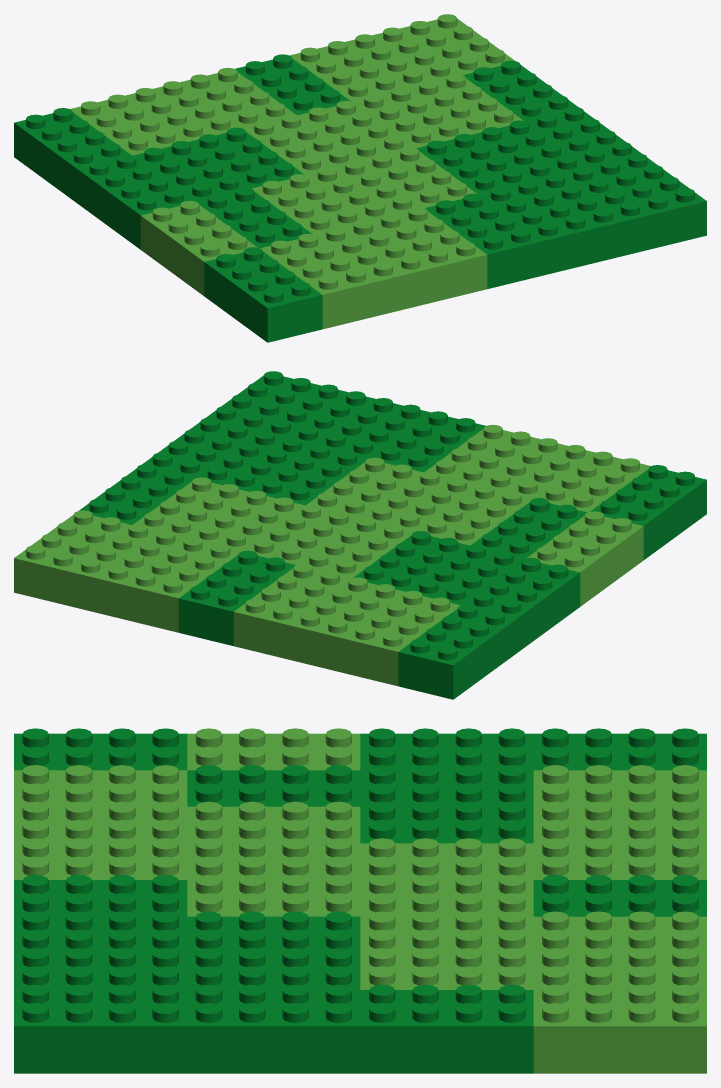
Rendered from LegoGrass1-lod0.fbx.
3 renders of one model, top to bottom at view 1: azimuth 30°, elevation 25°; view 2: azimuth 150°, elevation 25°; view 3: azimuth 270°, elevation 25°, orthographic. The views are drawn at different scales.
Parts seen in each view (by area): view 1: Material_28, Material_37; view 2: Material_37, Material_28; view 3: Material_28, Material_37.
Boxes of the visible parts, left/top/right/bottom form: Material_28: left=14, top=54, right=706, bottom=342; Material_37: left=70, top=14, right=523, bottom=329; Material_37: left=14, top=424, right=650, bottom=686; Material_28: left=79, top=371, right=706, bottom=699; Material_28: left=14, top=728, right=706, bottom=1073; Material_37: left=14, top=728, right=706, bottom=1073.
Size of the model in its own units: 12.8 by 1.14 by 12.8.
